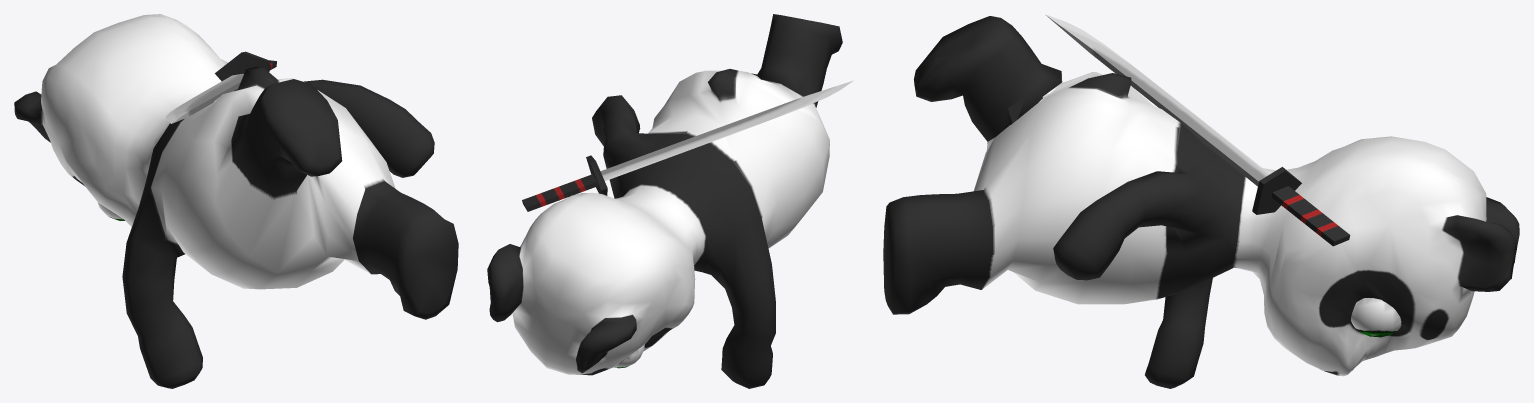
Rendered from Panda_oneMesh.FBX.
The picture shows the model from 3 angles, left to right: view 1: azimuth 30°, elevation 25°; view 2: azimuth 150°, elevation 25°; view 3: azimuth 270°, elevation 25°; orthographic projection. The views are drawn at different scales.
Visible parts, largest first — view 1: Sphere001; view 2: Sphere001; view 3: Sphere001.
Part boxes in pixels (box(x1,y1,x2,y2)): Sphere001: box(14, 14, 458, 388); Sphere001: box(487, 14, 853, 388); Sphere001: box(883, 14, 1519, 388).
Bounding box in the file's own units: 12.39 × 15.13 × 23.1.
Materials: 1 (1 with a texture image).
